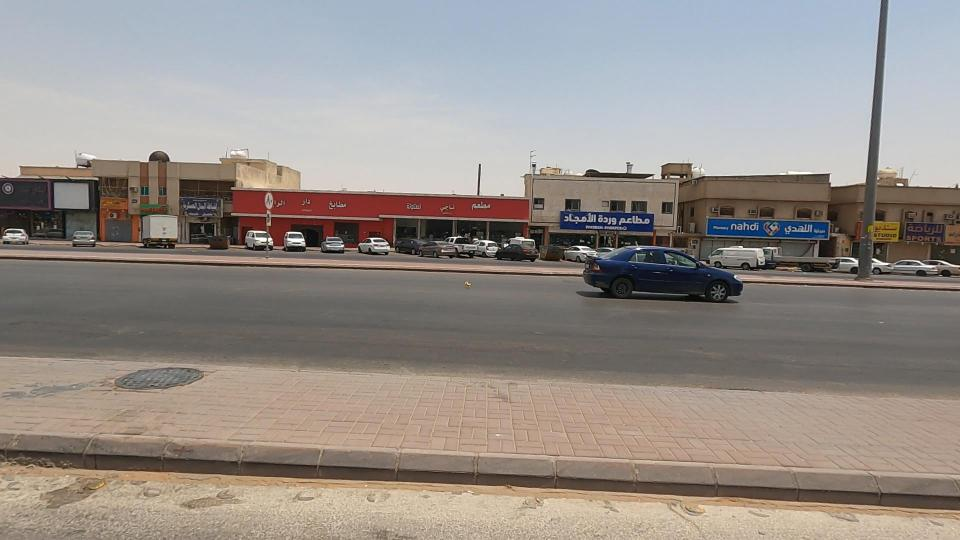GARBAGE: (435, 260, 498, 311)
